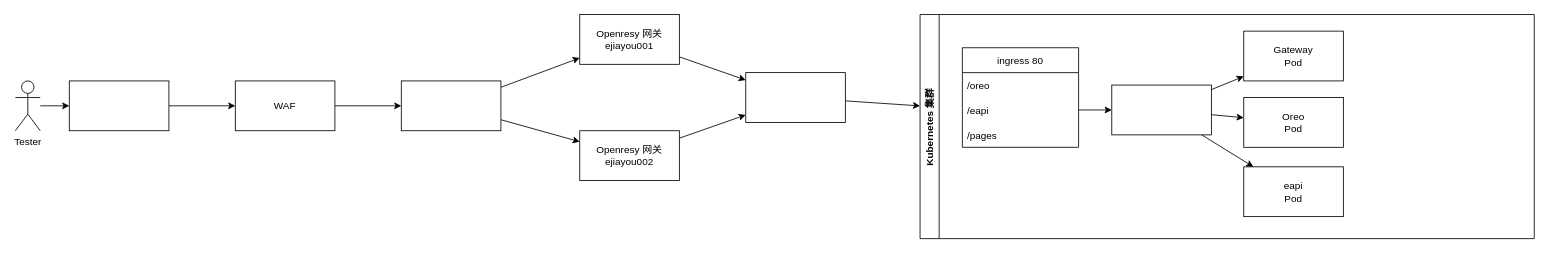
The diagram is 1549 pixels wide and 253 high, and some of its shapes have lost their labels. Each missing label, with the centre of its shape:
DNS: (x=118, y=105)
K8s LAN SLB: (x=795, y=97)
Service: (x=1161, y=109)
WLAN SLB SSL: (x=450, y=105)
